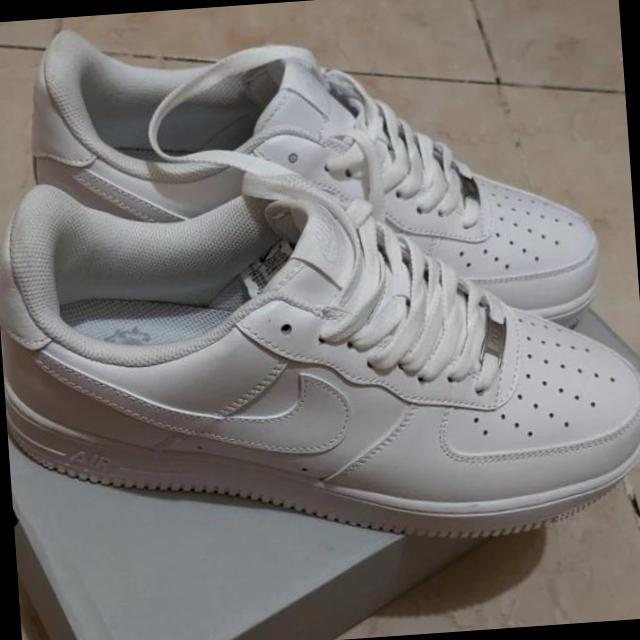nike_original_airforce: (0, 143, 640, 570), (18, 0, 608, 365)
